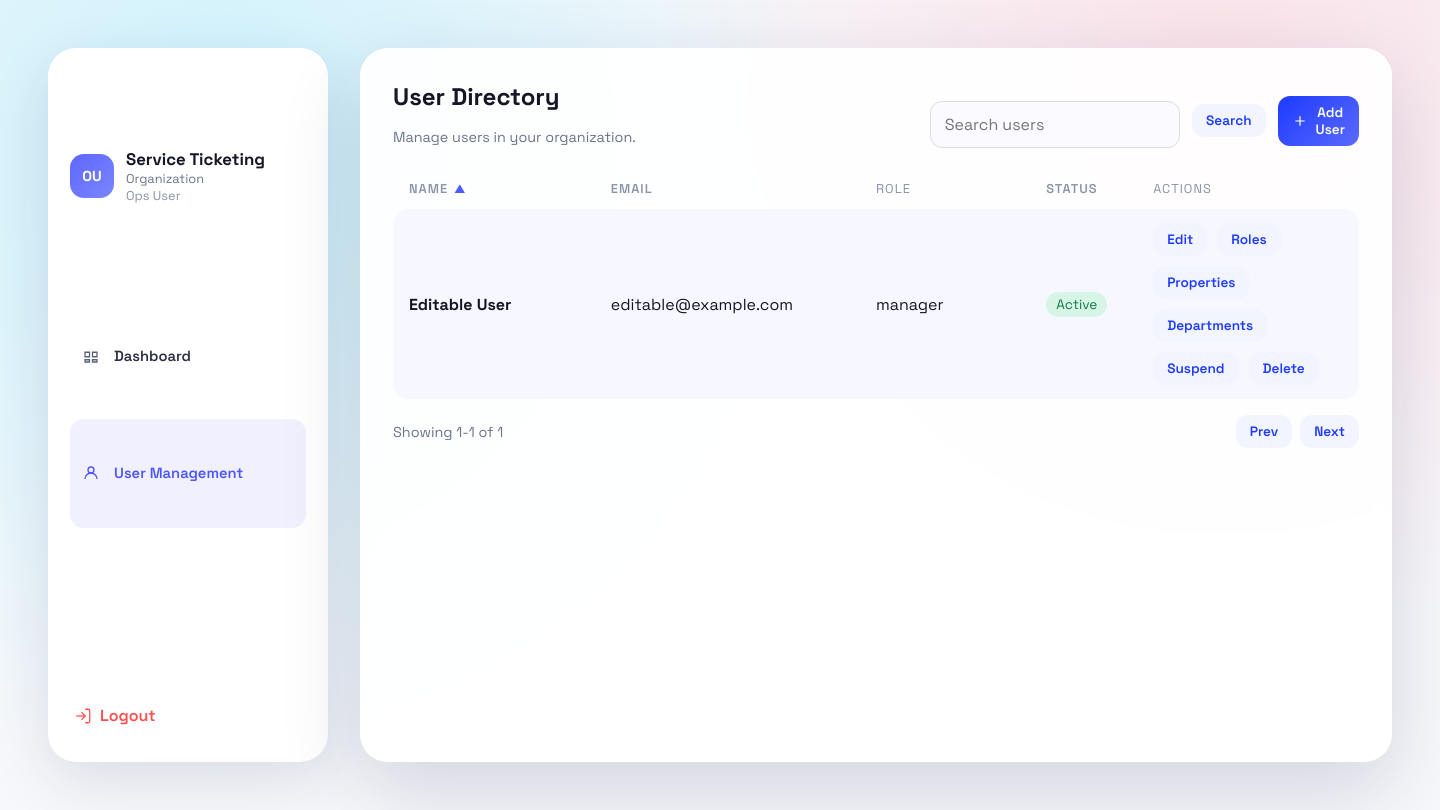
Test: HomePage user management behavior › submits edit modal and renders edit error on failure
Click the button "Edit".
click(1180, 240)  # box x1=1153 y1=223 x2=1207 y2=256
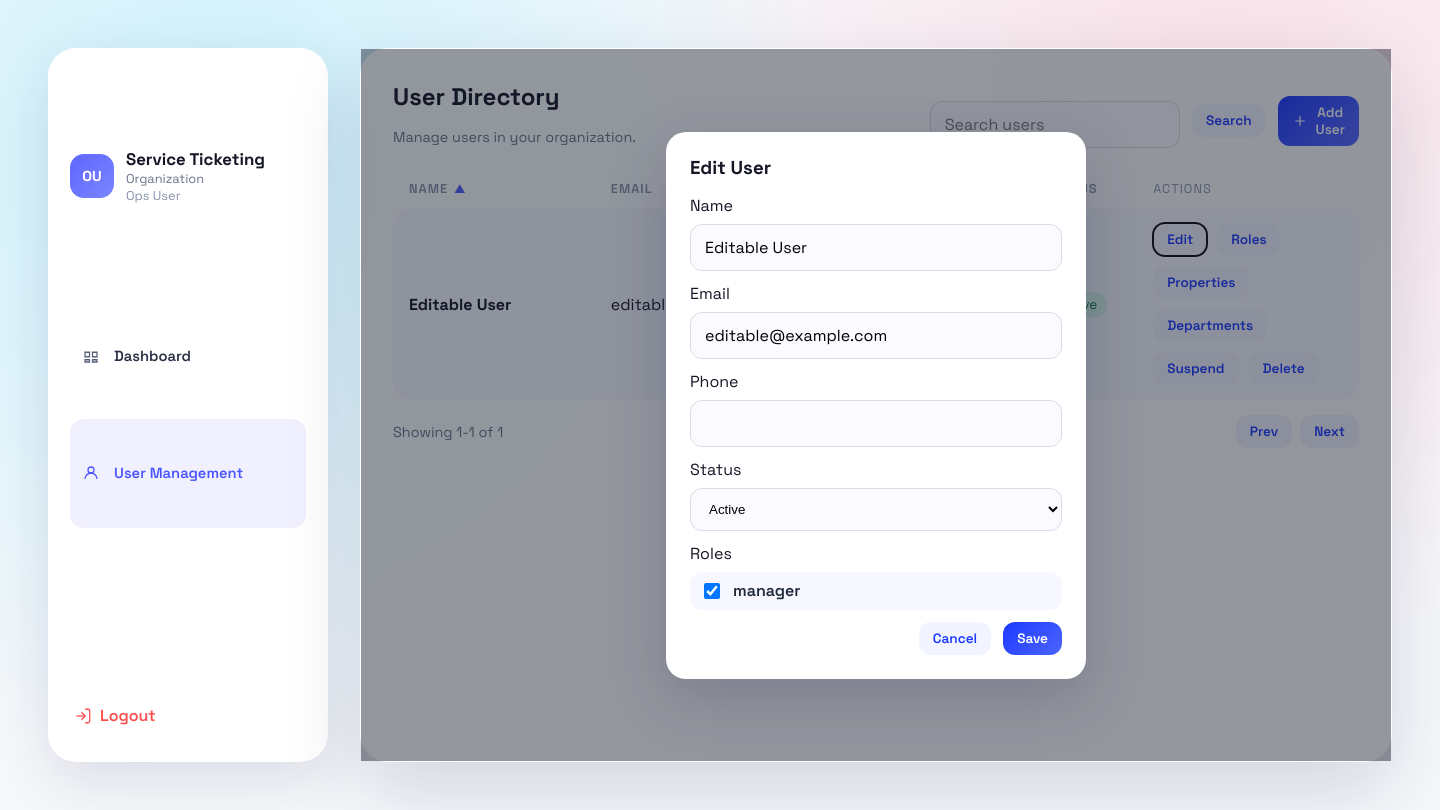
Replace the text in the field labelled "Name" with "Updated Name" at (876, 247), box x1=690 y1=224 x2=1062 y2=270
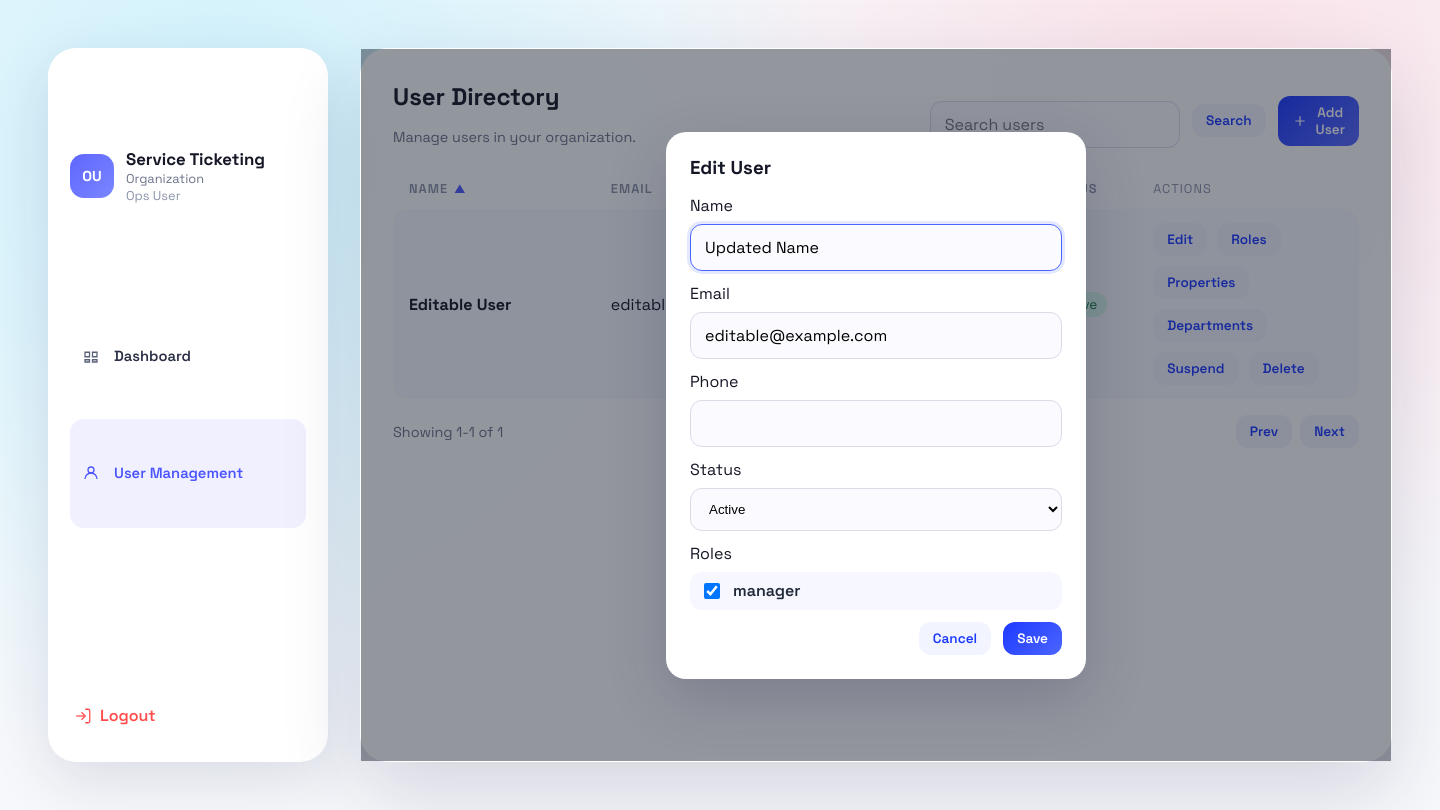
Click the button "Save".
click(1033, 638)  # box x1=1003 y1=622 x2=1062 y2=654
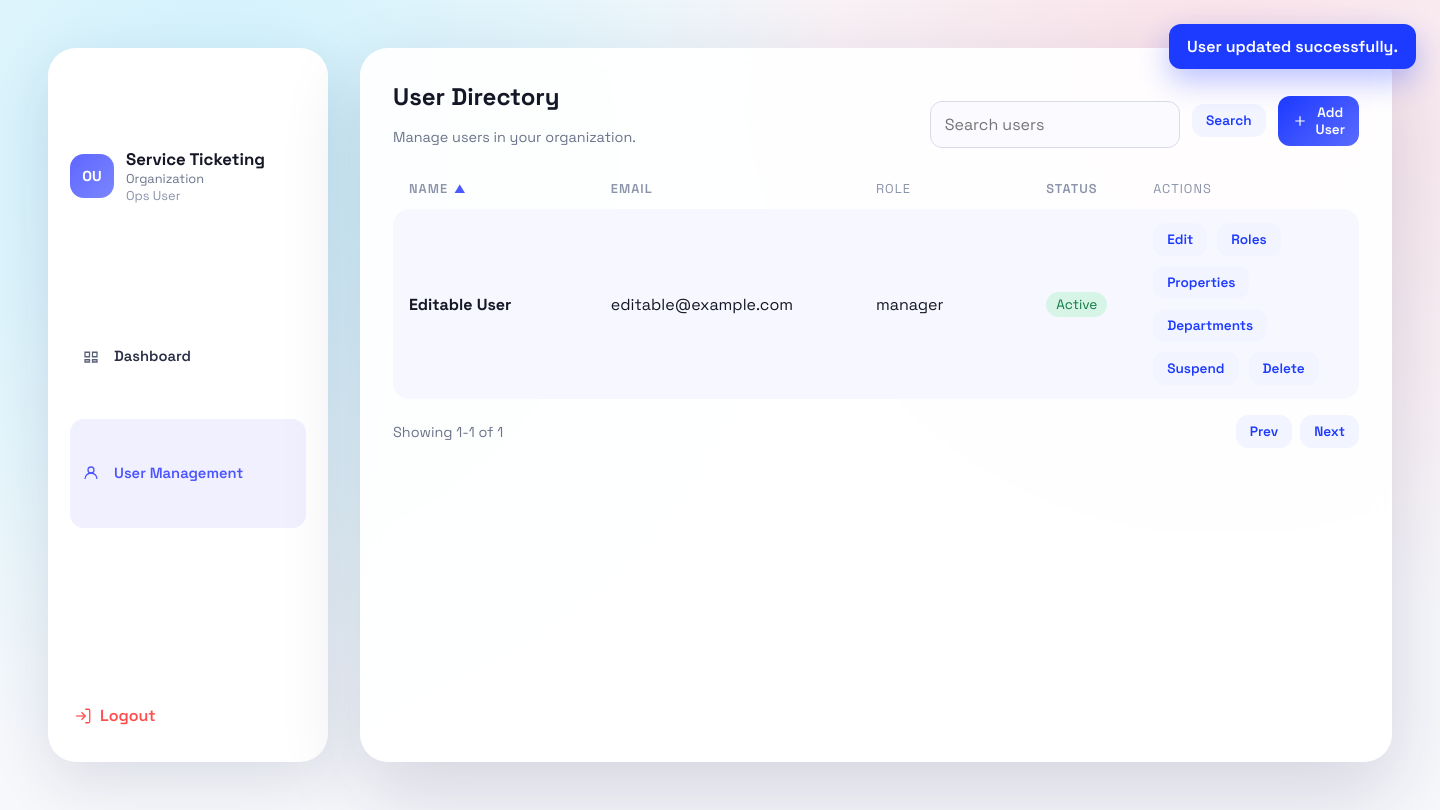
Expected: the heading "Edit User" is gone
Click the button "Edit".
click(1180, 240)  # box x1=1153 y1=223 x2=1207 y2=256
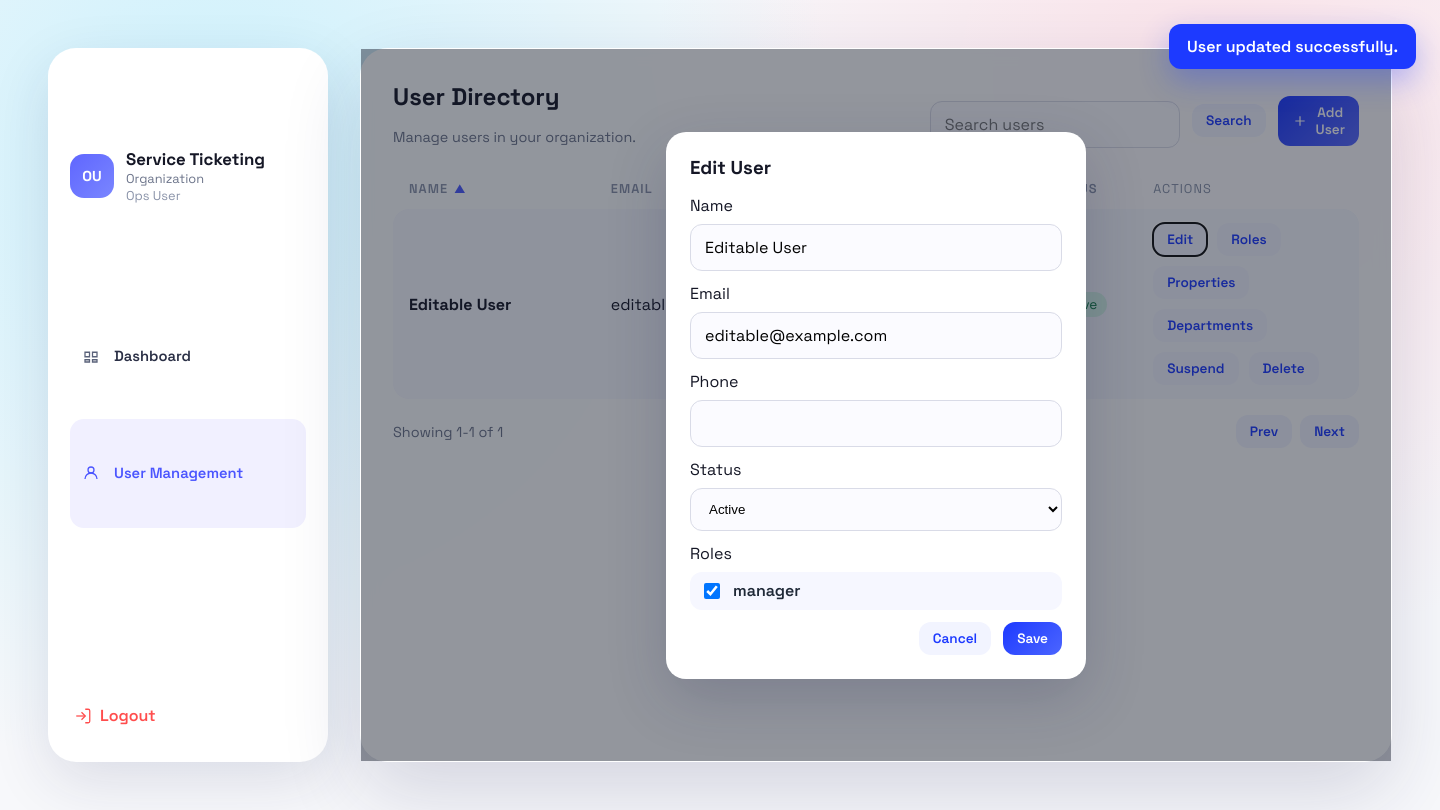
Replace the text in the field labelled "Name" with "Broken Update" at (876, 247), box x1=690 y1=224 x2=1062 y2=270
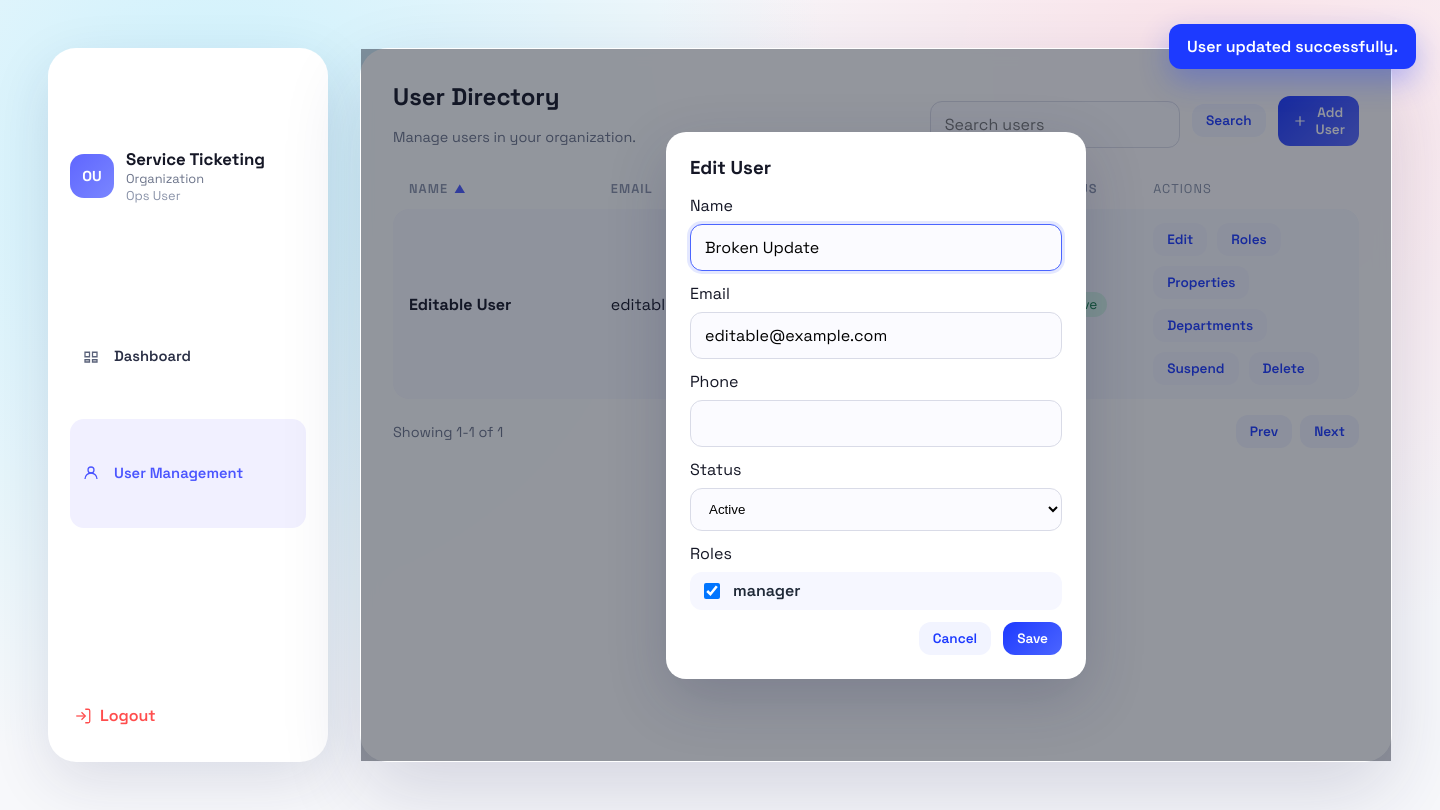
Click the button "Save".
click(1033, 638)  # box x1=1003 y1=622 x2=1062 y2=654
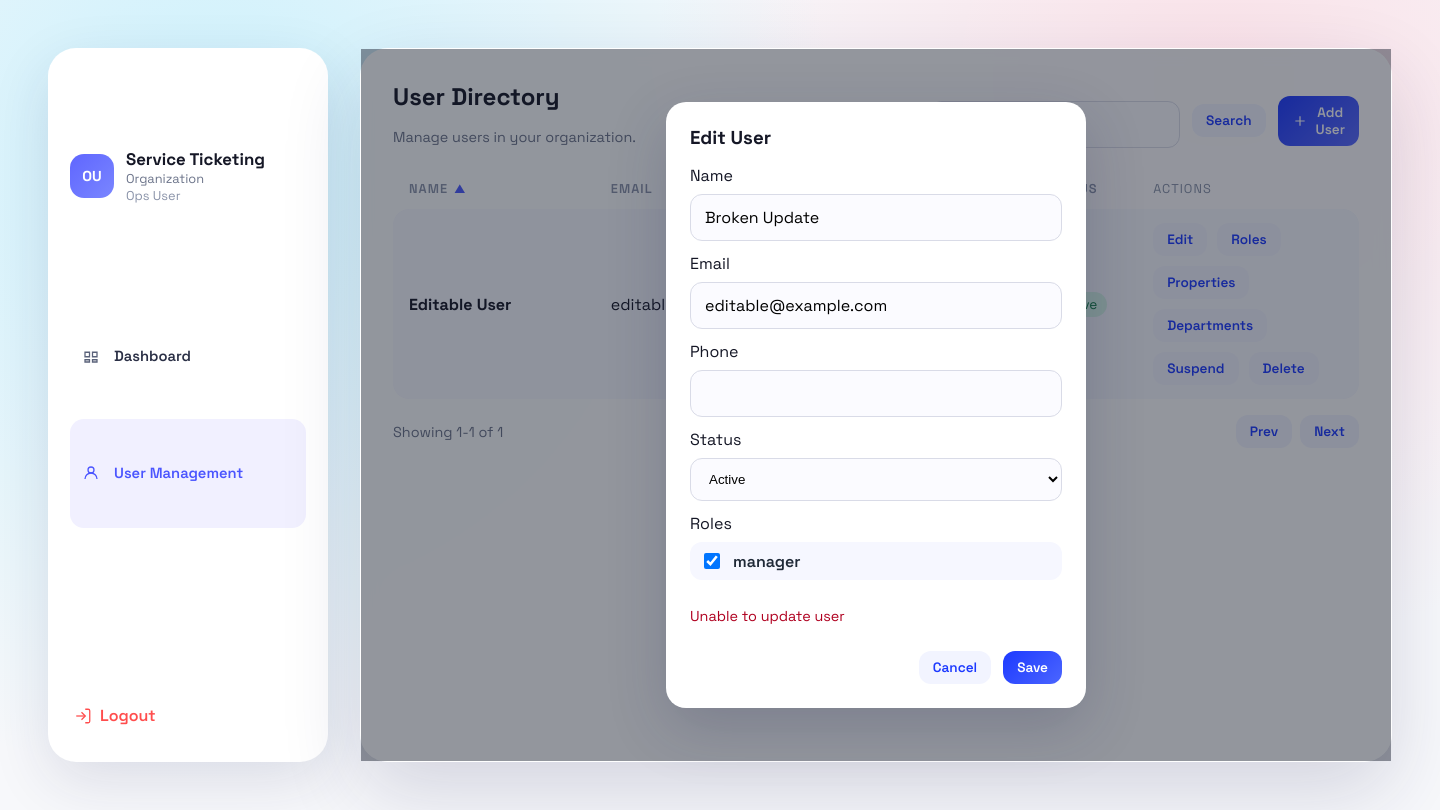
Expected: the text "Unable to update user" is shown, x1=690 y1=606 x2=845 y2=624
